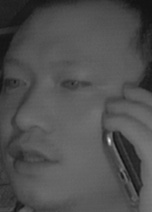eye: (58, 73, 93, 93), (3, 73, 29, 92)
mouth: (7, 139, 60, 172)
